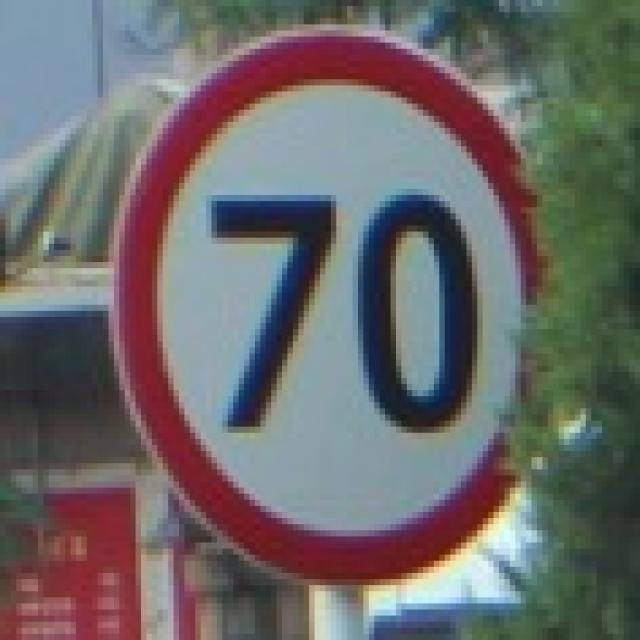Speed Limit -70-: (202, 189, 484, 441)
